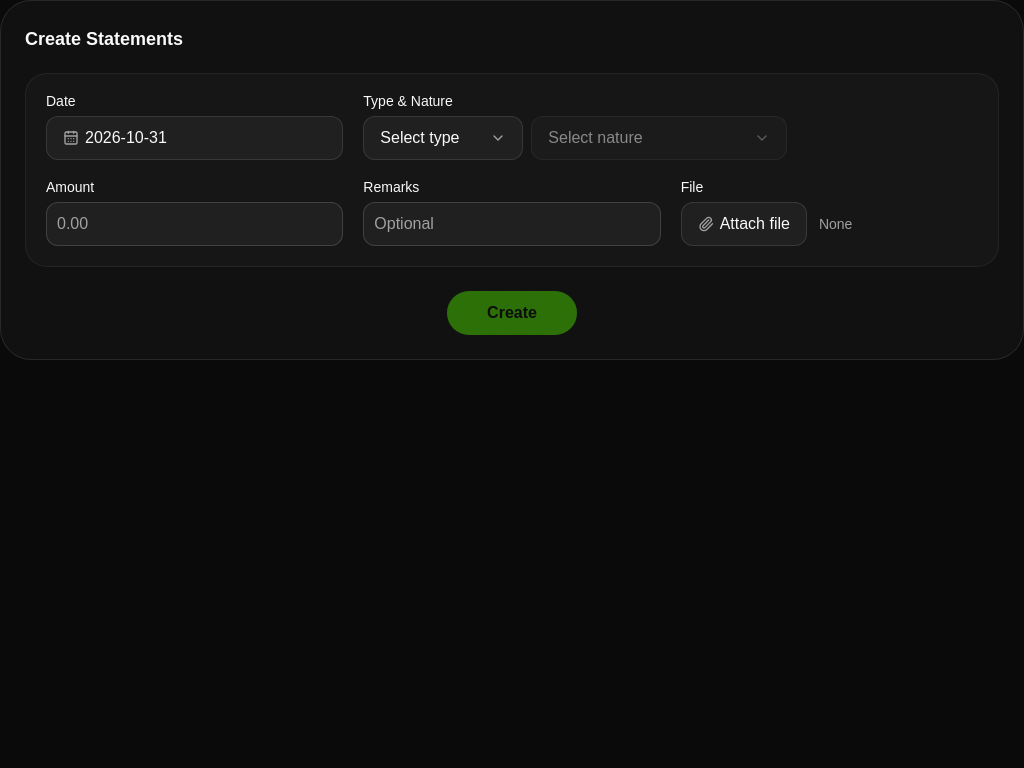
CreateStatementForm › keeps Create disabled until the required fields are valid
Expected: the button "Create" is disabled, x1=447 y1=291 x2=577 y2=335
Click the button "Select type": (443, 138) x1=363 y1=116 x2=523 y2=160
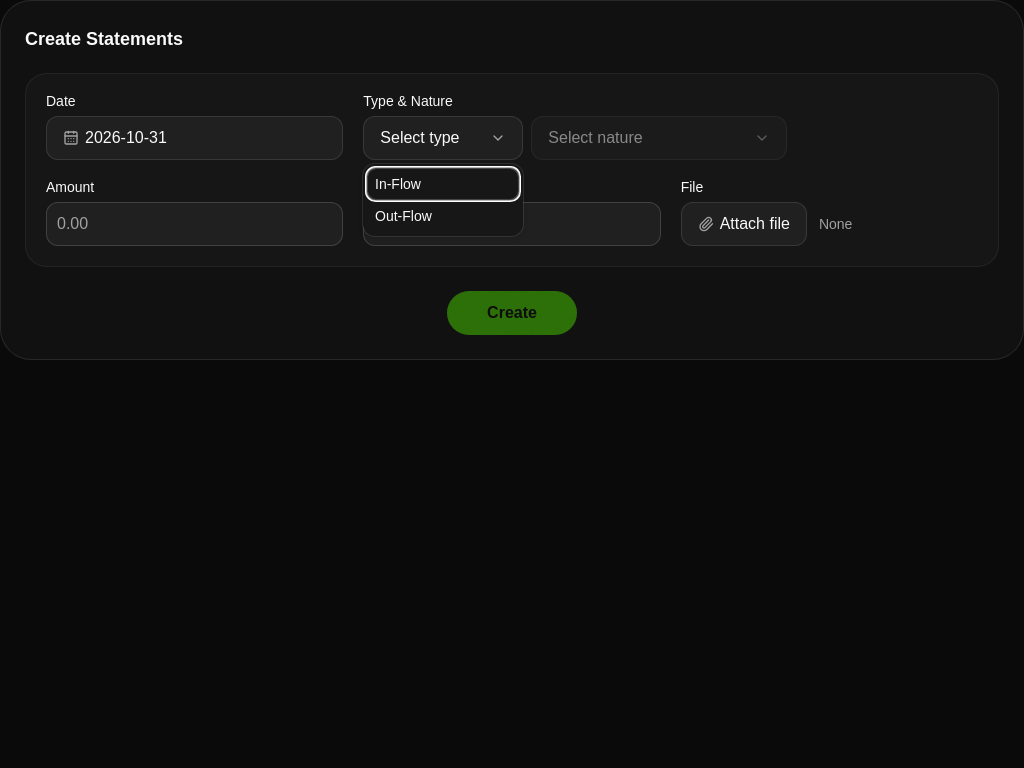
Click the option "In-Flow": (443, 184) x1=367 y1=168 x2=519 y2=200
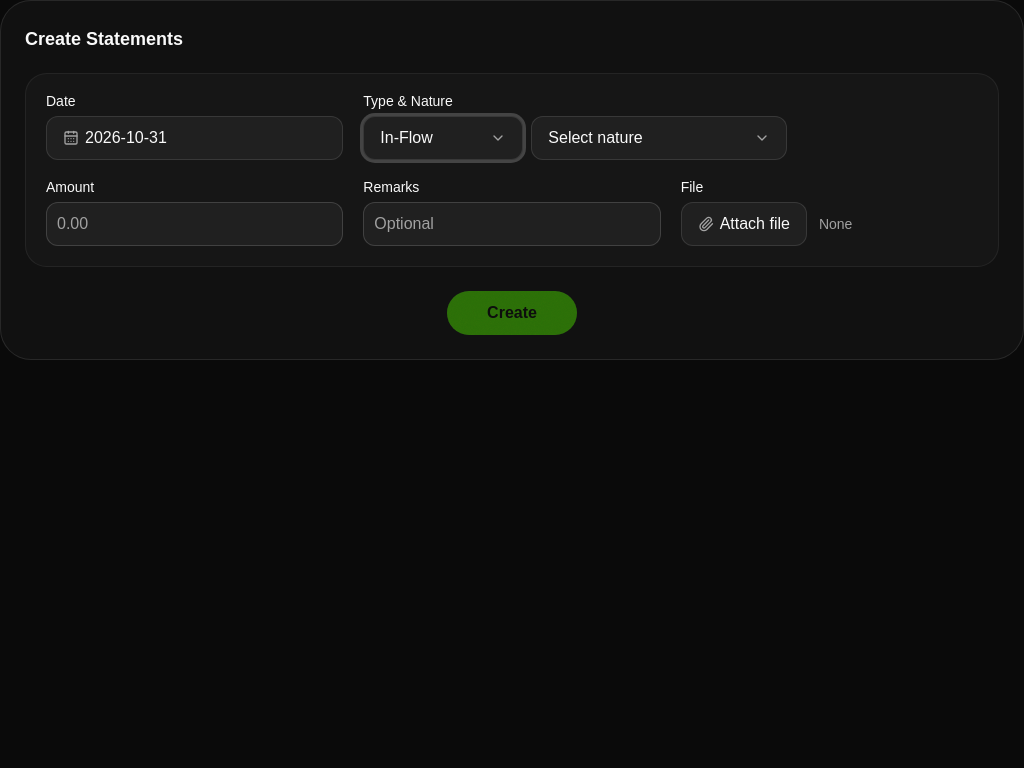
Click the button "Select nature": (659, 138) x1=531 y1=116 x2=787 y2=160
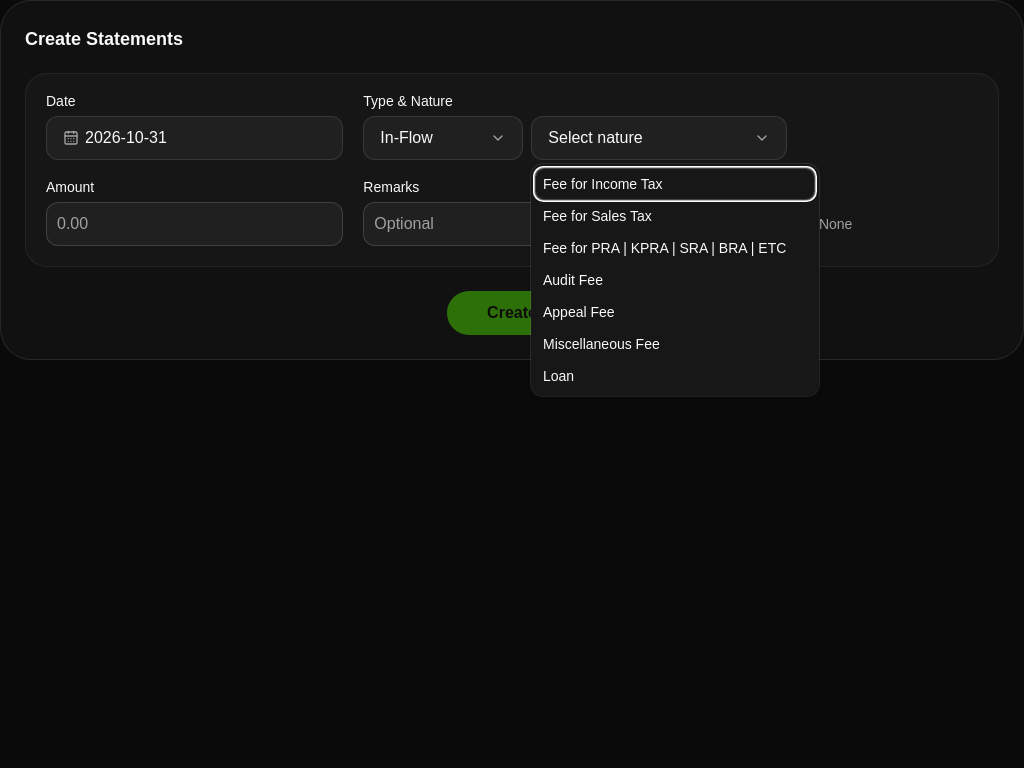
Click the option "Audit Fee": (573, 280) x1=535 y1=264 x2=815 y2=296
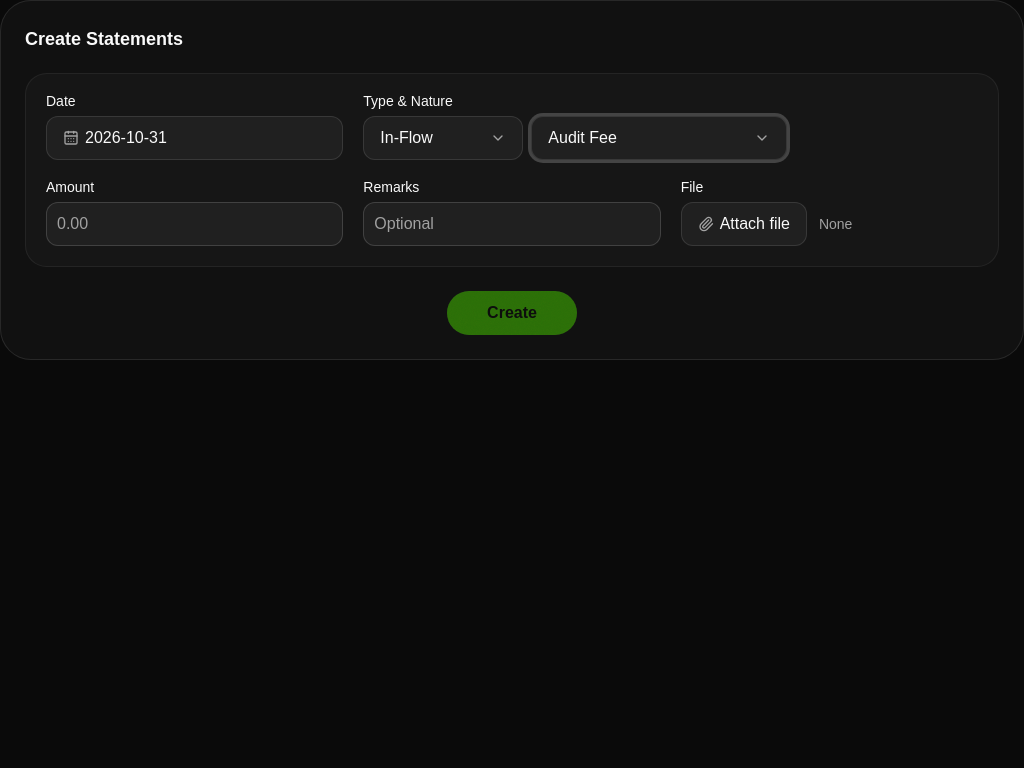
Expected: the button "Create" is disabled, x1=447 y1=291 x2=577 y2=335
In the field labelled "Amount": (195, 224) x1=46 y1=202 x2=343 y2=246, type "abc"
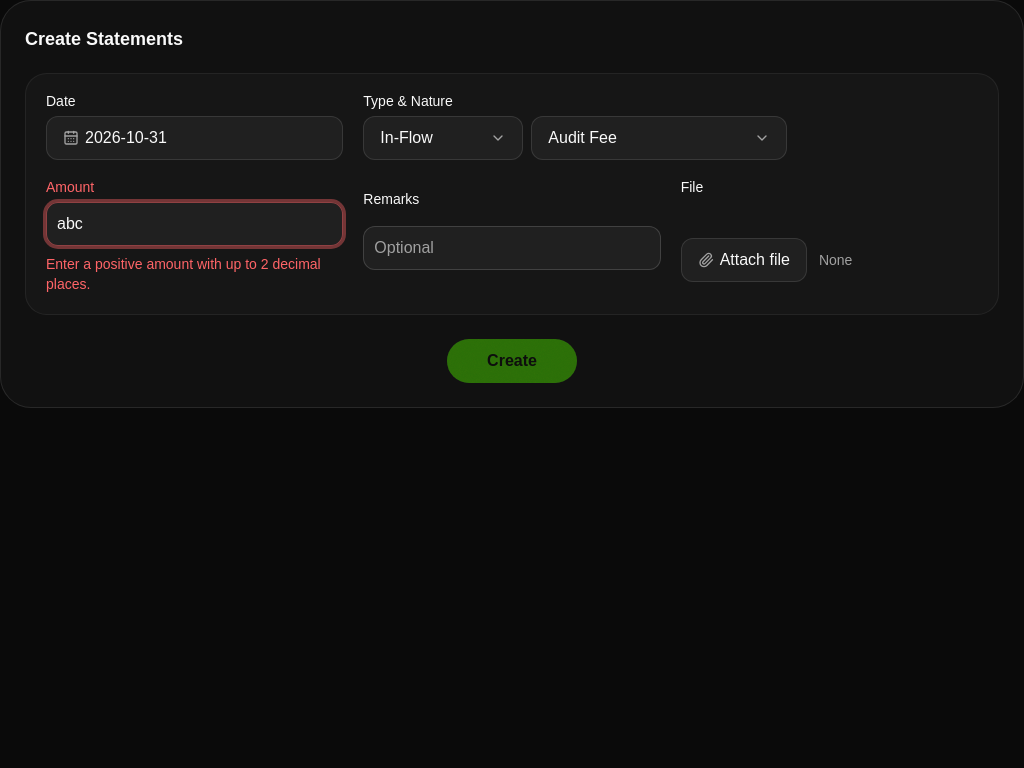
Expected: the button "Create" is disabled, x1=447 y1=339 x2=577 y2=383
Replace the text in the field labelled "Amount" with "1500": (195, 224) x1=46 y1=202 x2=343 y2=246
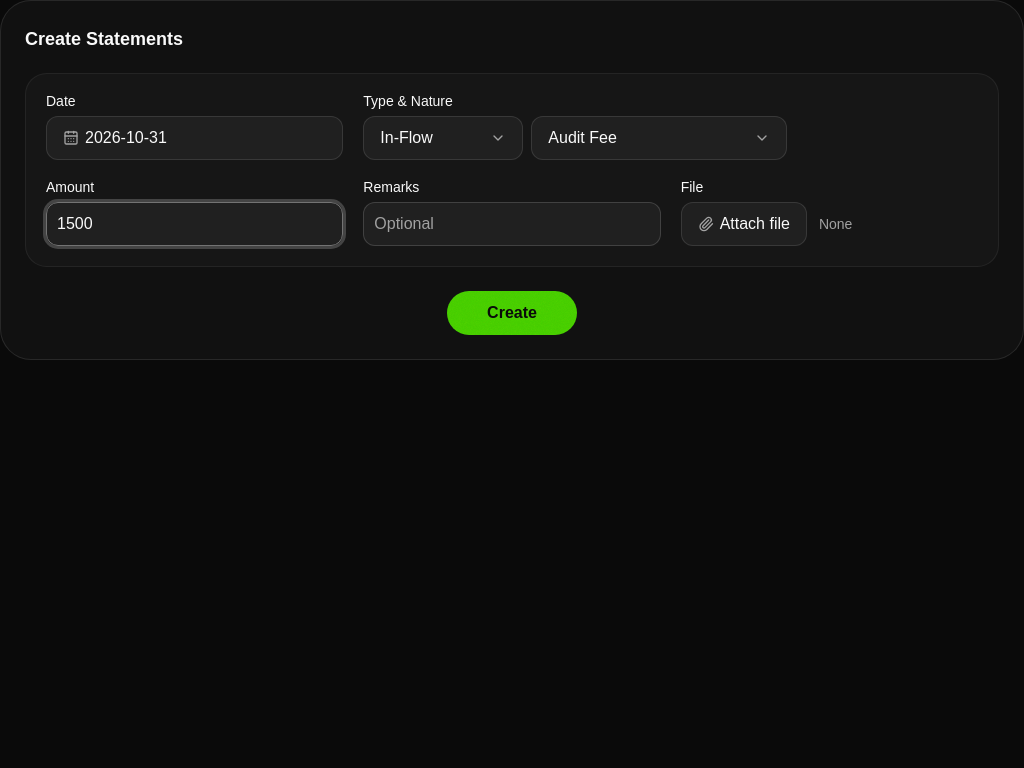
Now the button "Create" is enabled, box x1=447 y1=291 x2=577 y2=335
